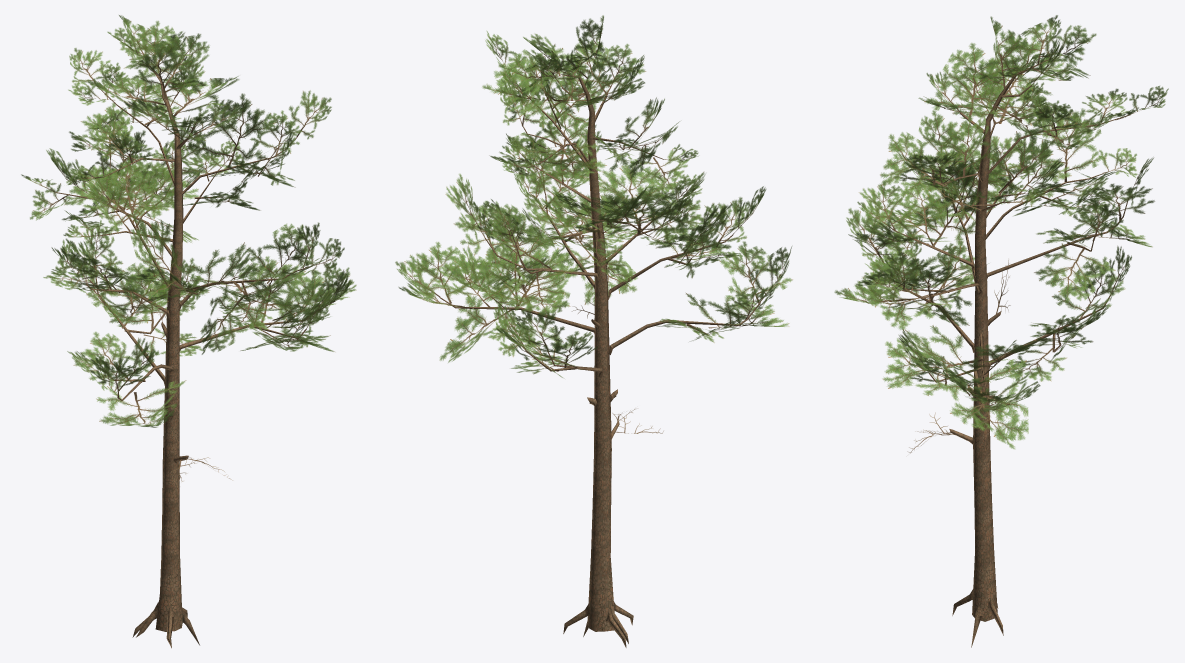
File: tpine2.glb
3 views of the same model, side by side, from view 1: azimuth 30°, elevation 25°; view 2: azimuth 150°, elevation 25°; view 3: azimuth 270°, elevation 25° (orthographic). The views are drawn at different scales.
Visible parts, largest first — view 1: prefab; view 2: prefab; view 3: prefab.
Part boxes in pixels (box(x1,y1,x2,y2)): prefab: box(21, 15, 356, 648); prefab: box(395, 15, 792, 647); prefab: box(834, 15, 1168, 647).
Bounding box in the file's own units: 6.84 × 12.14 × 6.15.
2 materials, 2 textured.
